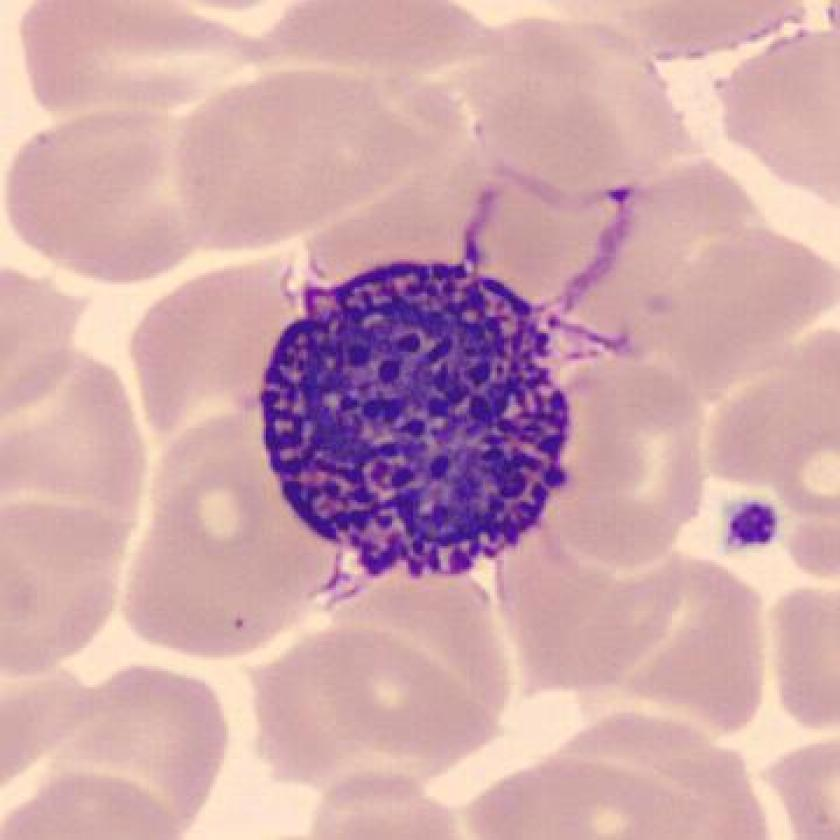basophil: (258, 249, 573, 584)
